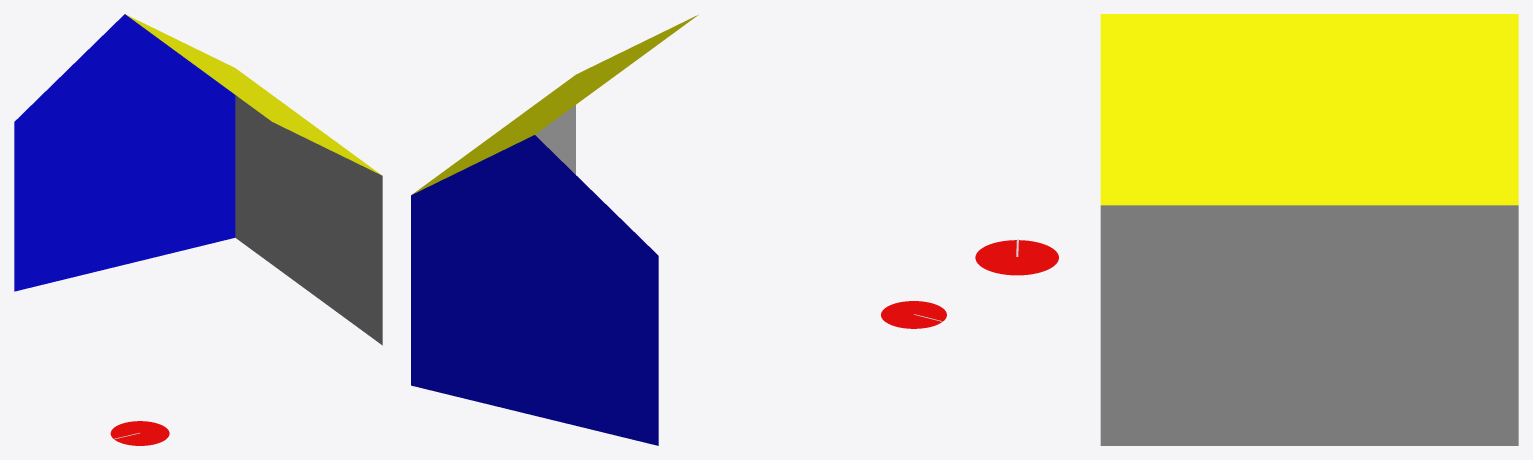
File: result.glb
The picture shows the model from 3 angles, left to right: view 1: azimuth 30°, elevation 25°; view 2: azimuth 150°, elevation 25°; view 3: azimuth 270°, elevation 25°; orthographic projection. The views are drawn at different scales.
Parts seen in each view (by area): view 1: 8883d0b1-2436-4f09-ae21-647131409f2d__undefined, 36680258-032b-4916-b4c7-5cdc0dada2e3__undefined, 66e4a2fe-67a9-4ca5-bb87-a2a9dbe7de5f__undefined, f4e6a392-f631-4062-87f2-1846daed1ca2__Circle; view 2: 8883d0b1-2436-4f09-ae21-647131409f2d__undefined, 66e4a2fe-67a9-4ca5-bb87-a2a9dbe7de5f__undefined, f4e6a392-f631-4062-87f2-1846daed1ca2__Circle, 36680258-032b-4916-b4c7-5cdc0dada2e3__undefined; view 3: 36680258-032b-4916-b4c7-5cdc0dada2e3__undefined, 66e4a2fe-67a9-4ca5-bb87-a2a9dbe7de5f__undefined, f4e6a392-f631-4062-87f2-1846daed1ca2__Circle.
Boxes of the visible parts, bbox=[...] form: 8883d0b1-2436-4f09-ae21-647131409f2d__undefined: bbox=[14, 14, 235, 291]; 36680258-032b-4916-b4c7-5cdc0dada2e3__undefined: bbox=[235, 95, 382, 345]; 66e4a2fe-67a9-4ca5-bb87-a2a9dbe7de5f__undefined: bbox=[125, 14, 380, 174]; f4e6a392-f631-4062-87f2-1846daed1ca2__Circle: bbox=[110, 421, 169, 445]; 8883d0b1-2436-4f09-ae21-647131409f2d__undefined: bbox=[411, 135, 658, 445]; 66e4a2fe-67a9-4ca5-bb87-a2a9dbe7de5f__undefined: bbox=[412, 15, 697, 194]; f4e6a392-f631-4062-87f2-1846daed1ca2__Circle: bbox=[881, 301, 946, 328]; 36680258-032b-4916-b4c7-5cdc0dada2e3__undefined: bbox=[535, 105, 575, 174]; 36680258-032b-4916-b4c7-5cdc0dada2e3__undefined: bbox=[1100, 205, 1518, 445]; 66e4a2fe-67a9-4ca5-bb87-a2a9dbe7de5f__undefined: bbox=[1100, 14, 1518, 205]; f4e6a392-f631-4062-87f2-1846daed1ca2__Circle: bbox=[975, 240, 1058, 275].
Bounding box in the file's own units: 583 × 469 × 650.
